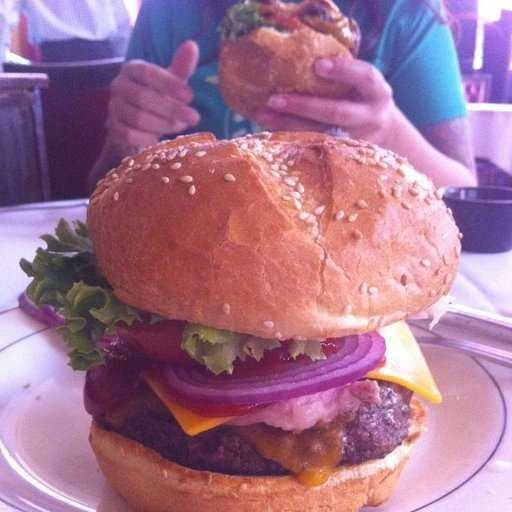hamburger: (53, 120, 480, 508)
